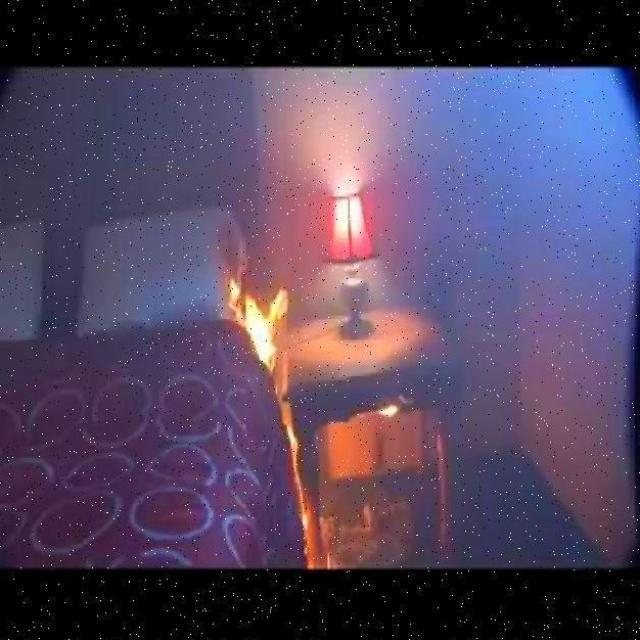smoke: (228, 283, 293, 372)
